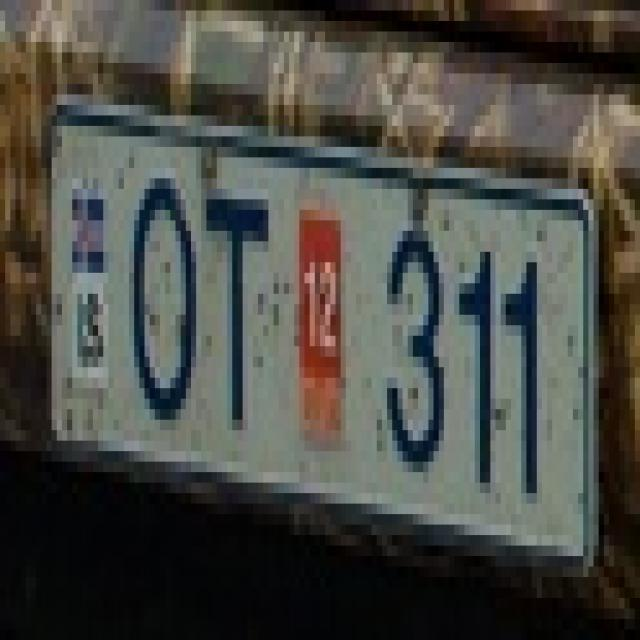licenseplate: (41, 96, 606, 584)
